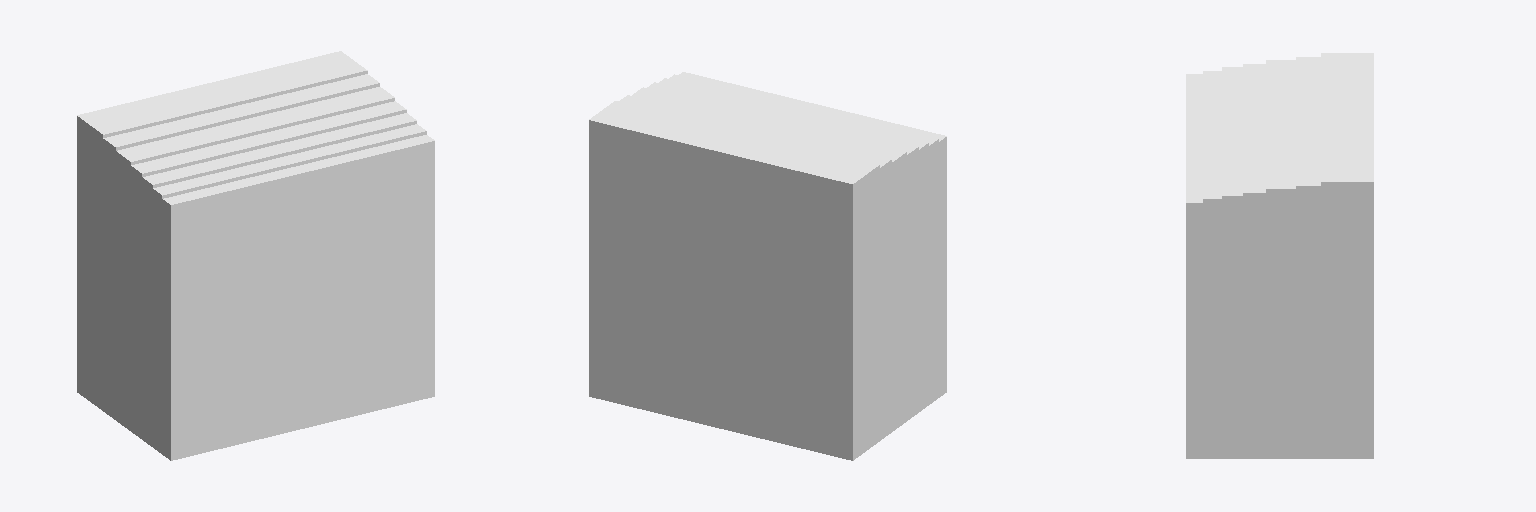
The model's file is balcony3-1-lod2.obj.
3 views of the same model, side by side, from view 1: azimuth 30°, elevation 25°; view 2: azimuth 150°, elevation 25°; view 3: azimuth 270°, elevation 25° (orthographic).
Parts seen in each view (by area): view 1: lod2; view 2: lod2; view 3: lod2.
Part boxes in pixels (x1,y1,x2,y2): lod2: (77,51,434,460); lod2: (589,72,946,460); lod2: (1186,53,1373,458).
Size of the model in its own units: 16 by 16 by 9.9.